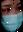with_mask: (2, 1, 23, 32)
